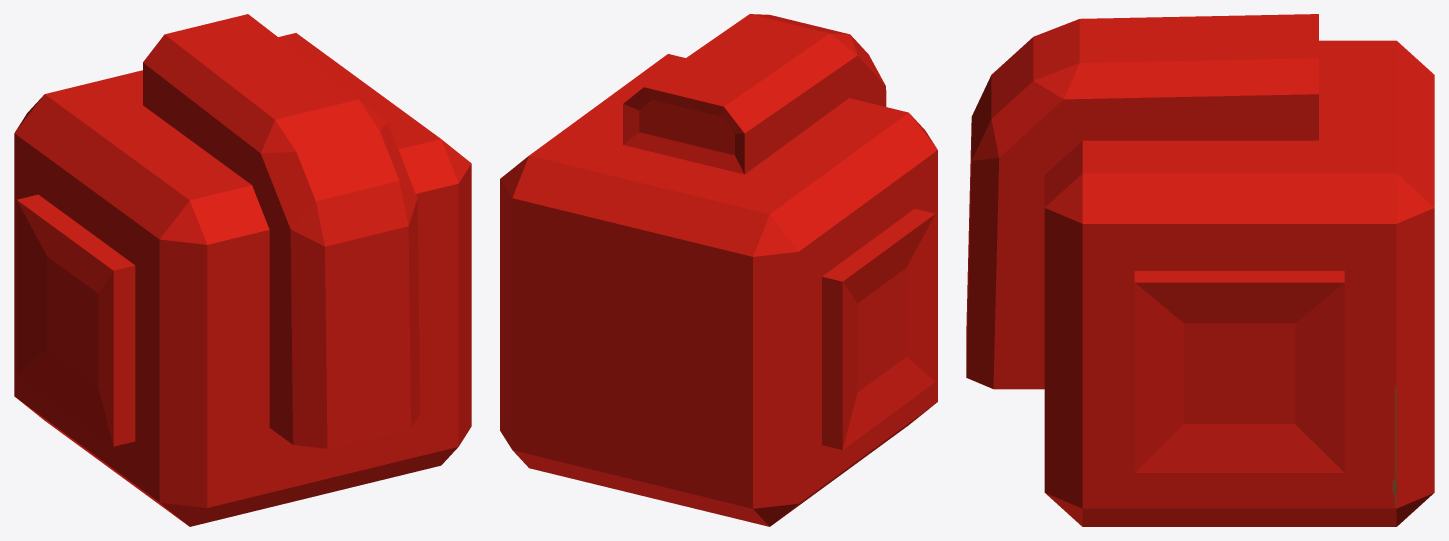
Rendered from playerHead.obj.
3 renders of one model, left to right at view 1: azimuth 30°, elevation 25°; view 2: azimuth 150°, elevation 25°; view 3: azimuth 270°, elevation 25°, orthographic. The views are drawn at different scales.
Parts seen in each view (by area): view 1: Head; view 2: Head; view 3: Head.
Part boxes in pixels (<box>): Head: <box>14,14,471,526</box>; Head: <box>500,14,937,526</box>; Head: <box>966,14,1434,526</box>.
Size of the model in its own units: 0.7988 by 0.8421 by 0.8421.
Materials: 1 (1 with a texture image).
